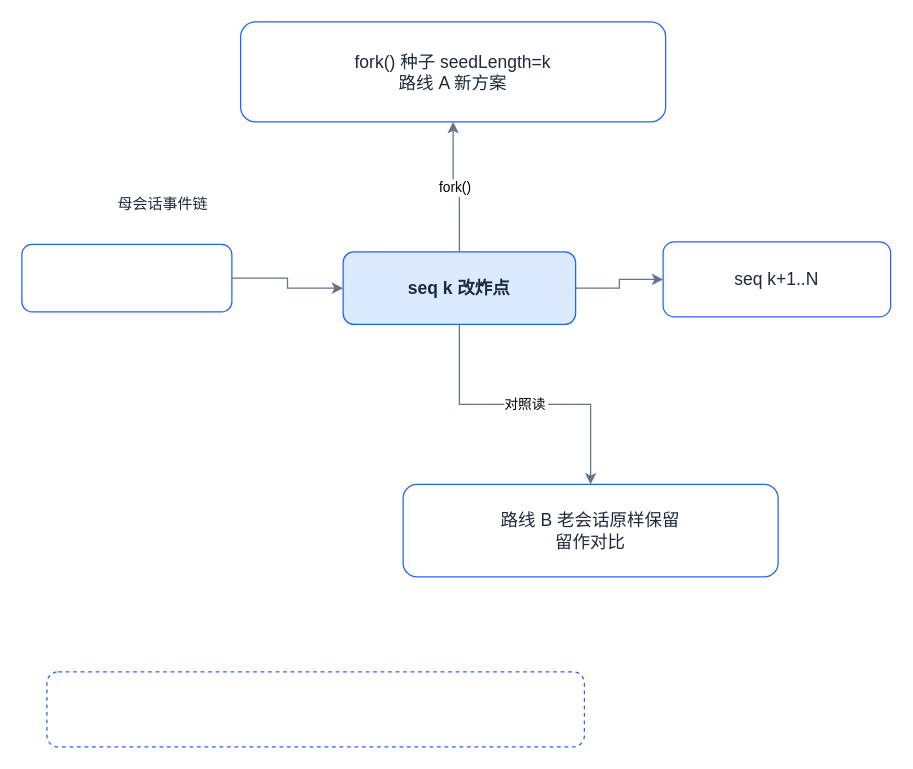
Image size: 913x769. Some labels were removed from this diagram. The centre of each missing label's shape, as x and y in pixels:
"OPEN_TURN 守卫：turn 进行中不许 fork，防半成品种子" belongs at point 315,709.
"seq 0..k-1" belongs at point 126,277.
